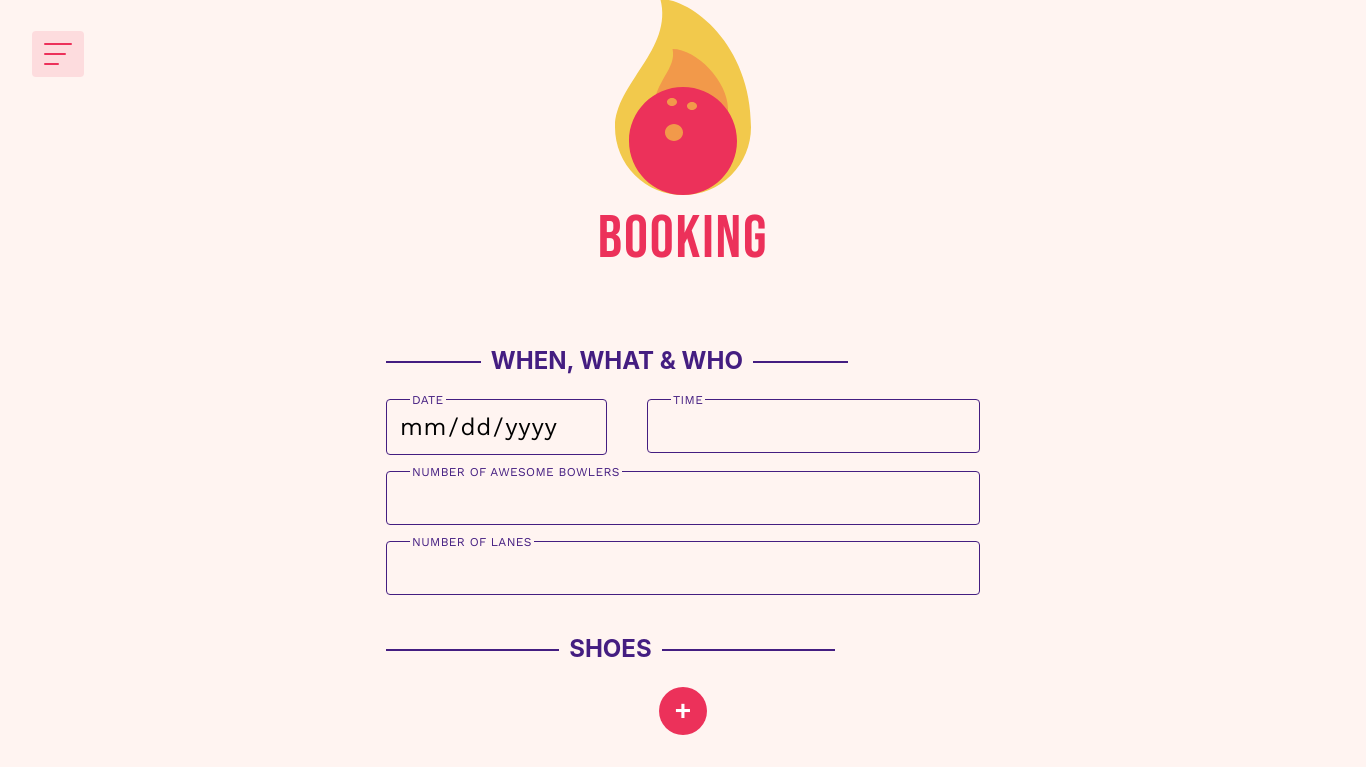
Test: Testing Booking page › Should show an error message if  the total of the shoes is not the same as the total of the people
The width and height of the screenshot is (1366, 767).
Step 1. Type "2023-11-27" into the date field with test id "when" → {"x": 496, "y": 427}, box [386,399,607,455]
Step 2. Type "212321" into the field with test id "time" → {"x": 814, "y": 426}, box [647,399,980,453]
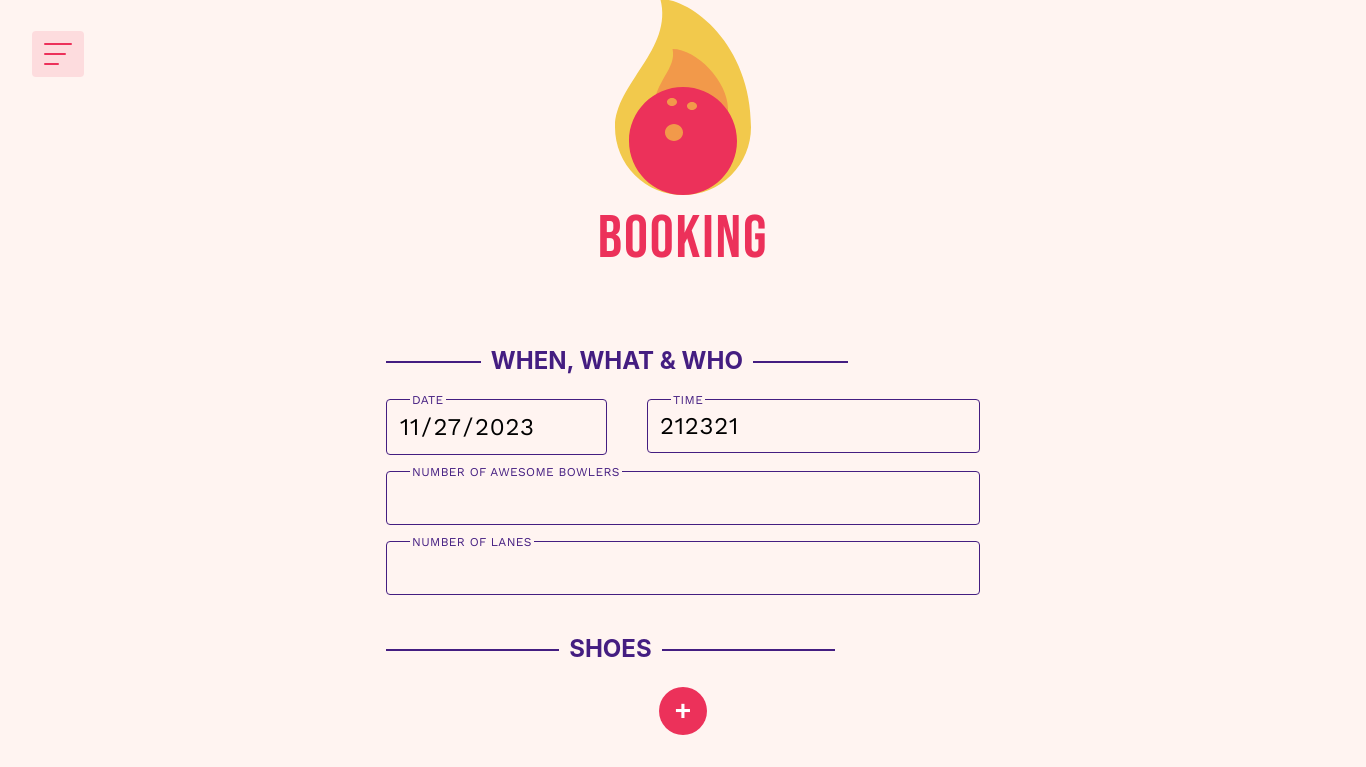
Step 3. Type "1" into the number field with test id "people" → {"x": 683, "y": 498}, box [386,471,980,525]
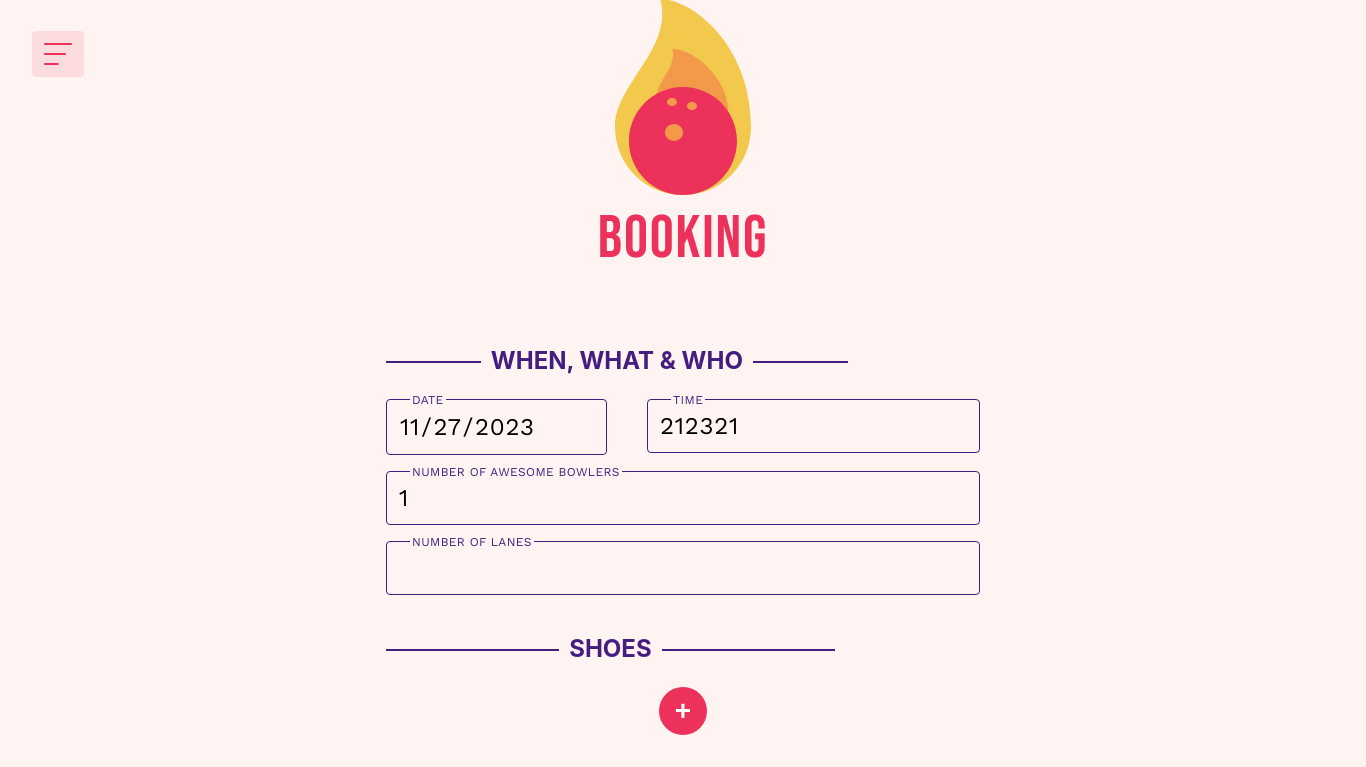
Step 4. Type "1" into the number field with test id "lanes" → {"x": 683, "y": 568}, box [386,541,980,595]
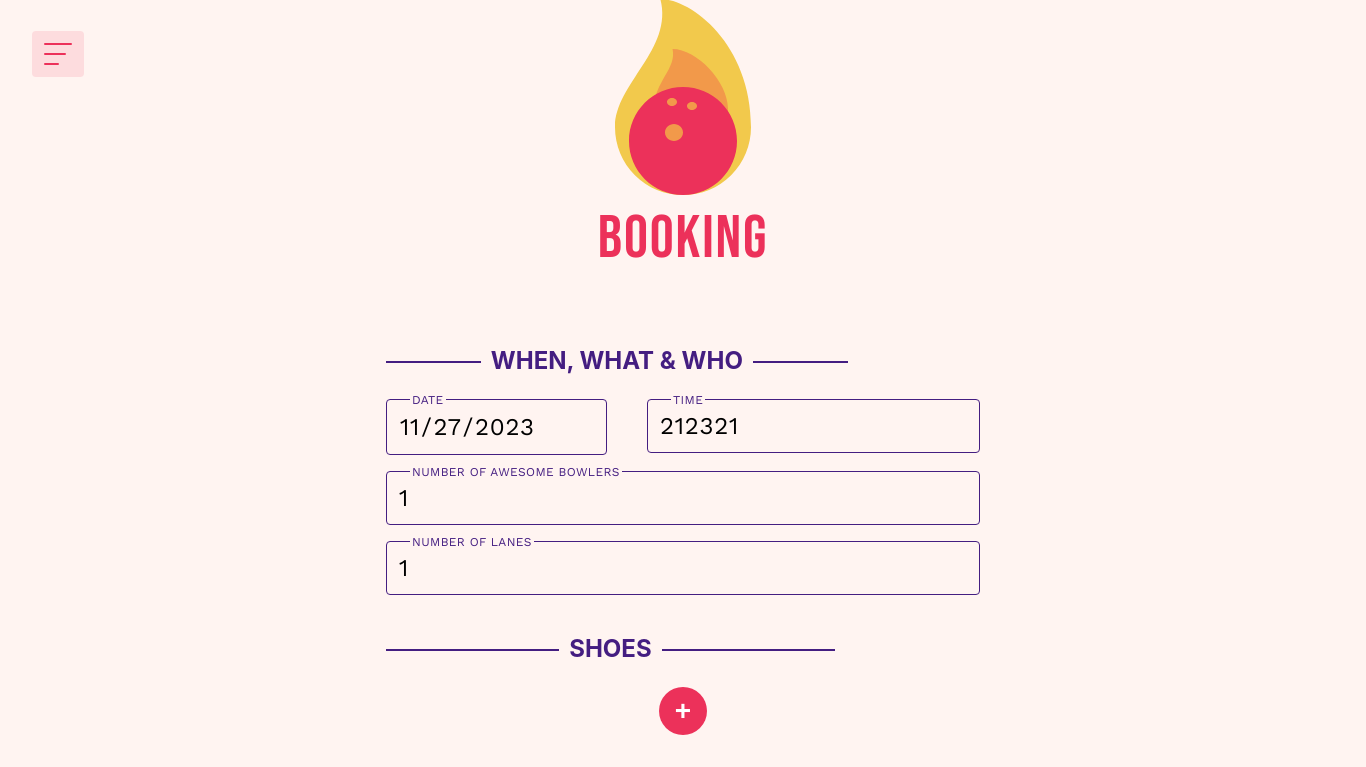
Step 5. Click the button "+" → {"x": 683, "y": 711}, box [659,687,707,735]
(page scrolled)
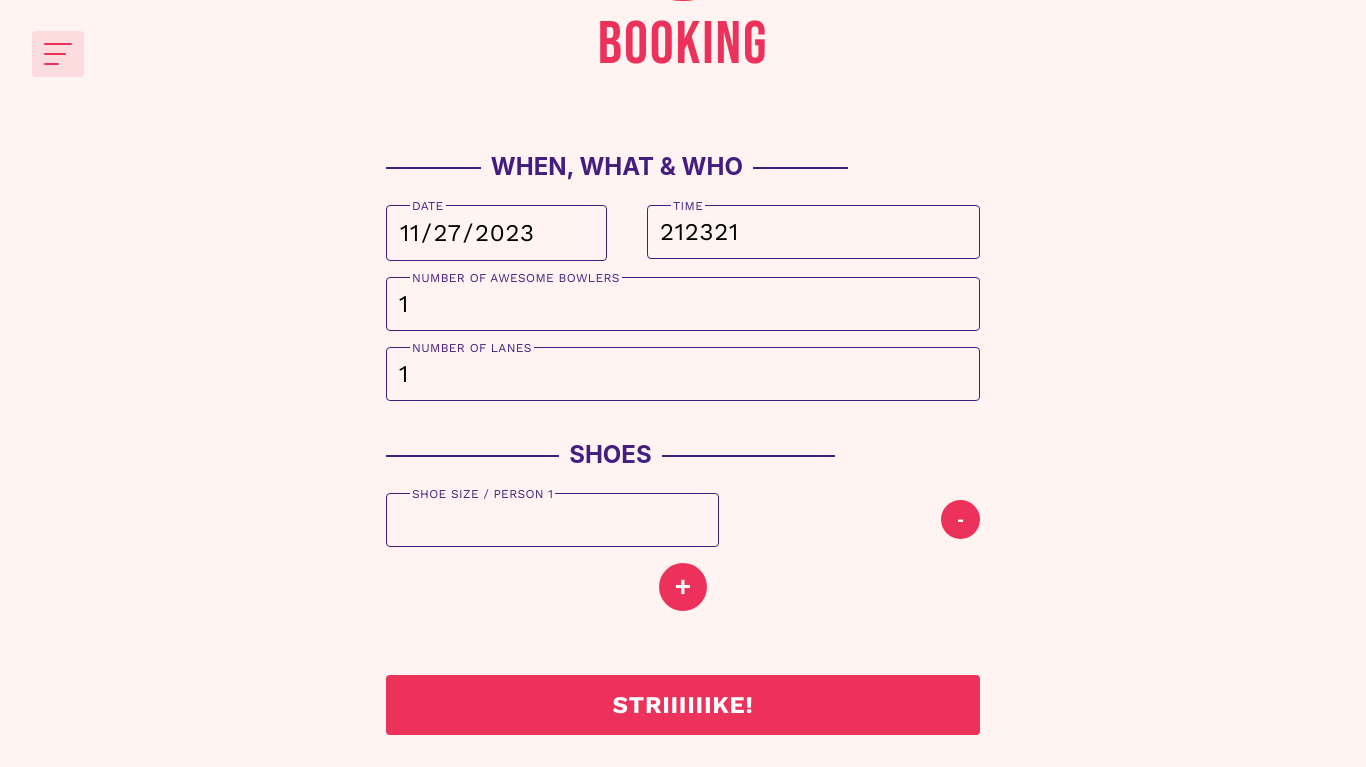
Step 6. Click the button "+" → {"x": 683, "y": 587}, box [659,563,707,611]
(page scrolled)
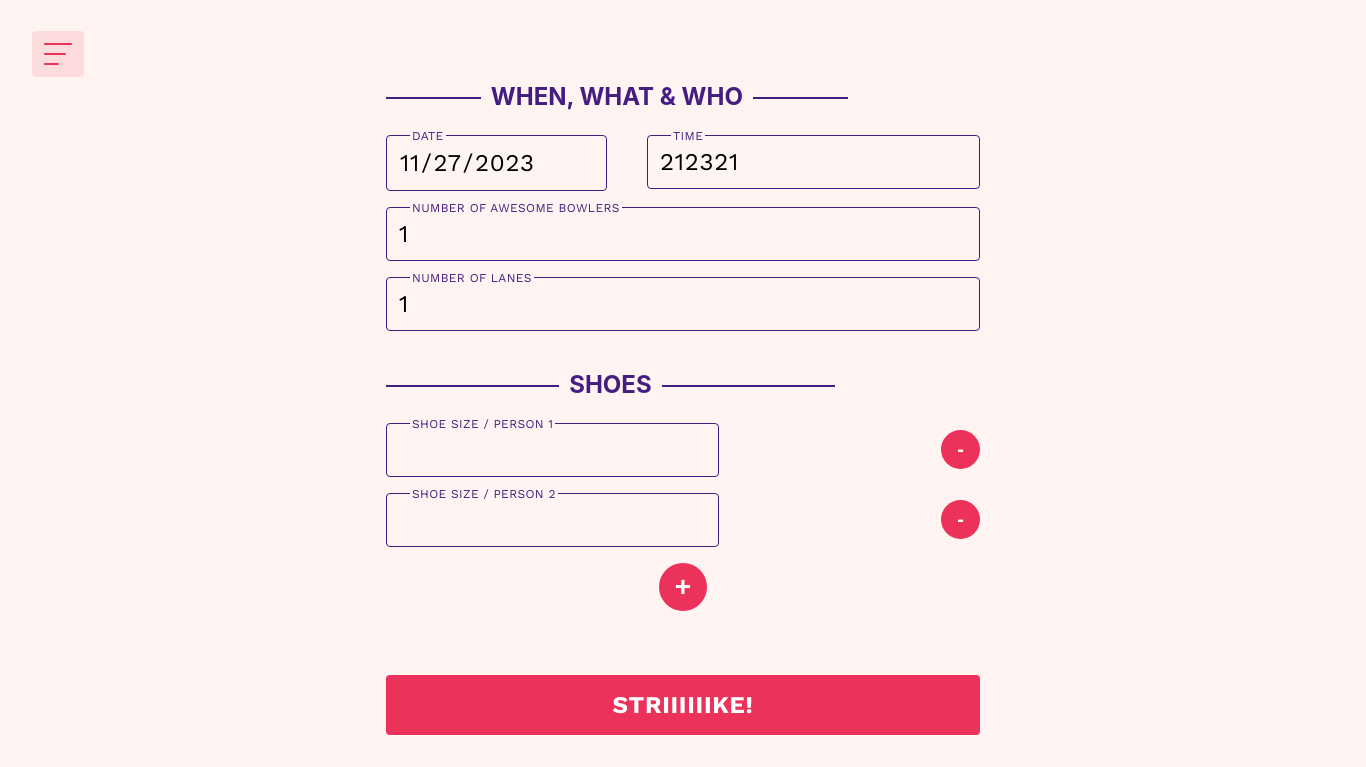
Step 7. Click the button "strIIIIIike!" → {"x": 683, "y": 705}, box [386,675,980,735]
(page scrolled)
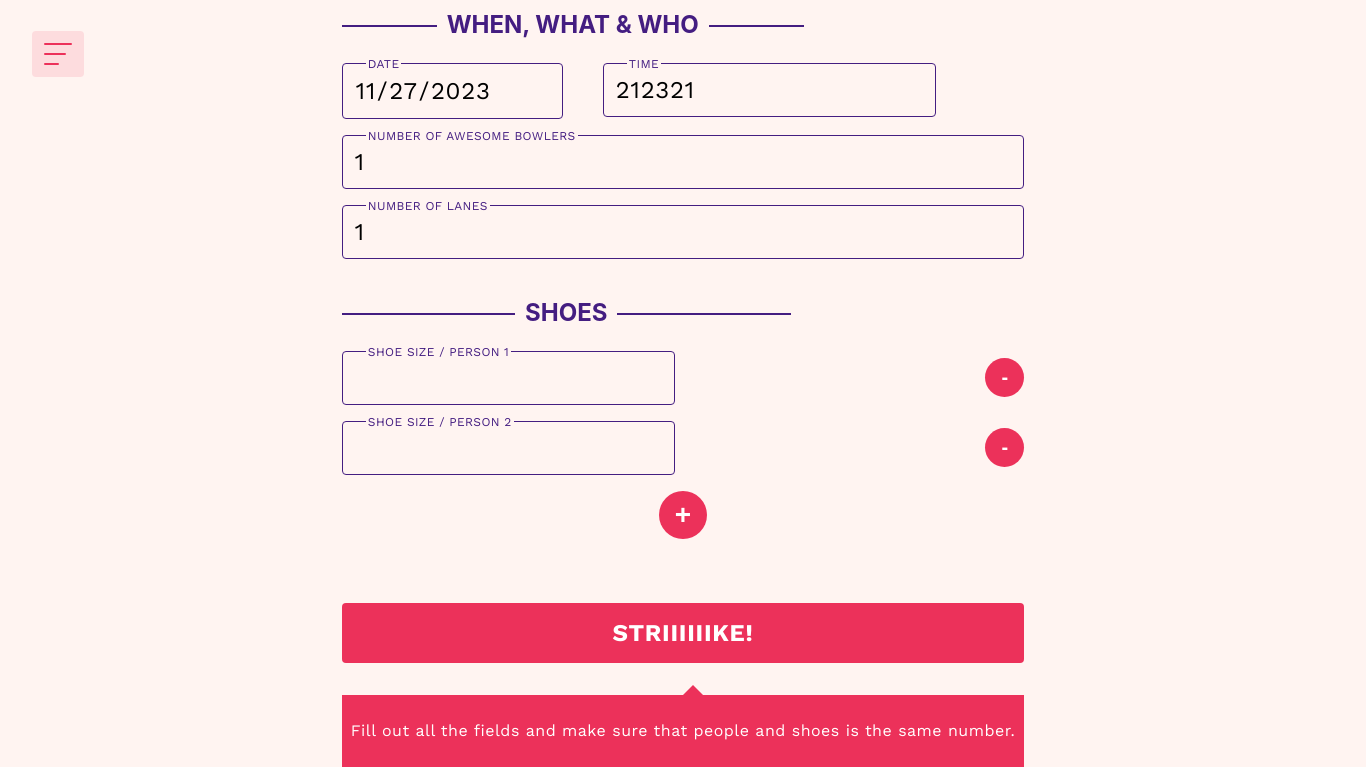
Expected: the text "Fill out all the fields and make sure that people and shoes is the same number." is shown, [351,720,1015,742]
